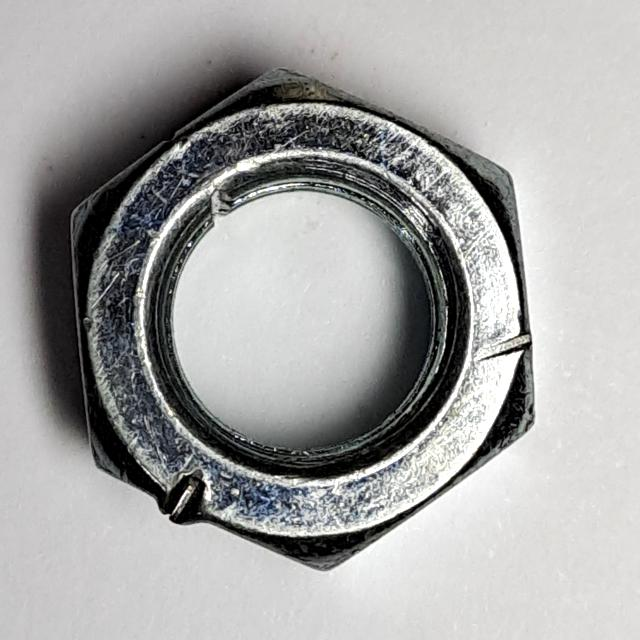Scratches: (57, 51, 552, 584)
